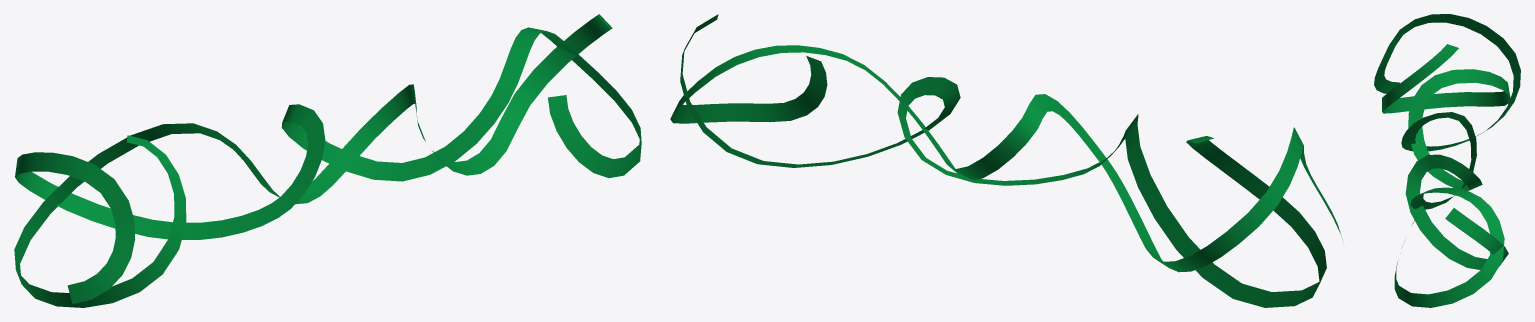
File: Ghost_Force.fbx
3 renders of one model, left to right at view 1: azimuth 30°, elevation 25°; view 2: azimuth 150°, elevation 25°; view 3: azimuth 270°, elevation 25°, orthographic. The views are drawn at different scales.
Parts seen in each view (by area): view 1: Line002; view 2: Line002; view 3: Line002.
Boxes of the visible parts, <box> form: Line002: <box>14,14,641,307</box>; Line002: <box>670,14,1342,307</box>; Line002: <box>1374,14,1520,307</box>.
Size of the model in its own units: 490 by 109 by 140.
